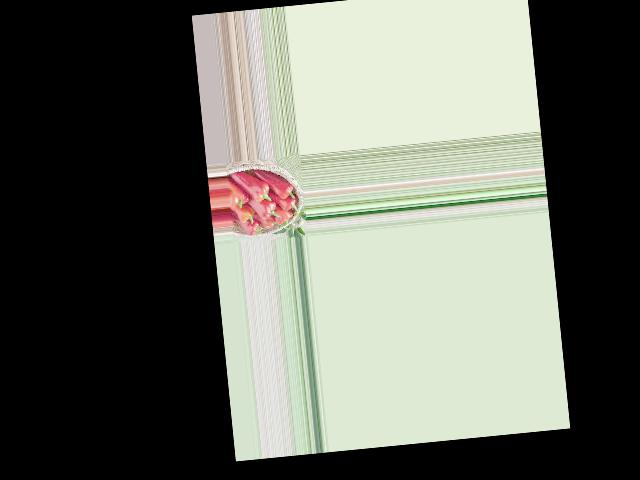bell_pepper: (277, 195, 300, 213)
